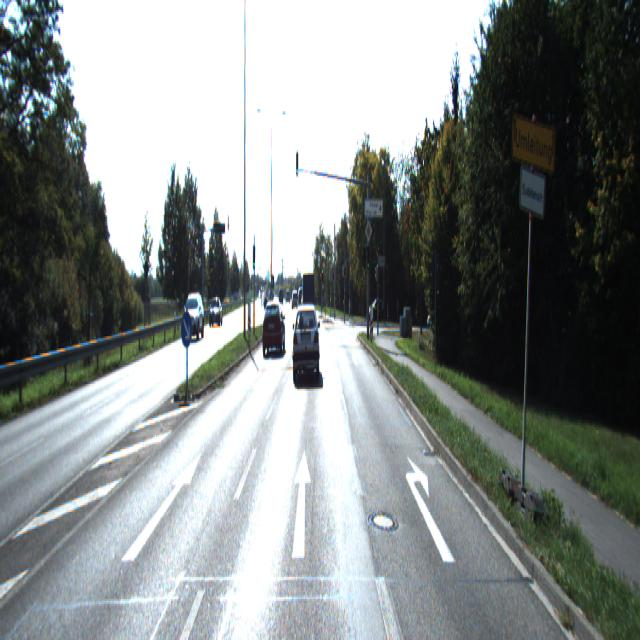Car: (292, 312, 320, 383), (262, 301, 285, 358), (183, 294, 205, 339), (302, 273, 315, 331), (209, 298, 222, 328)
